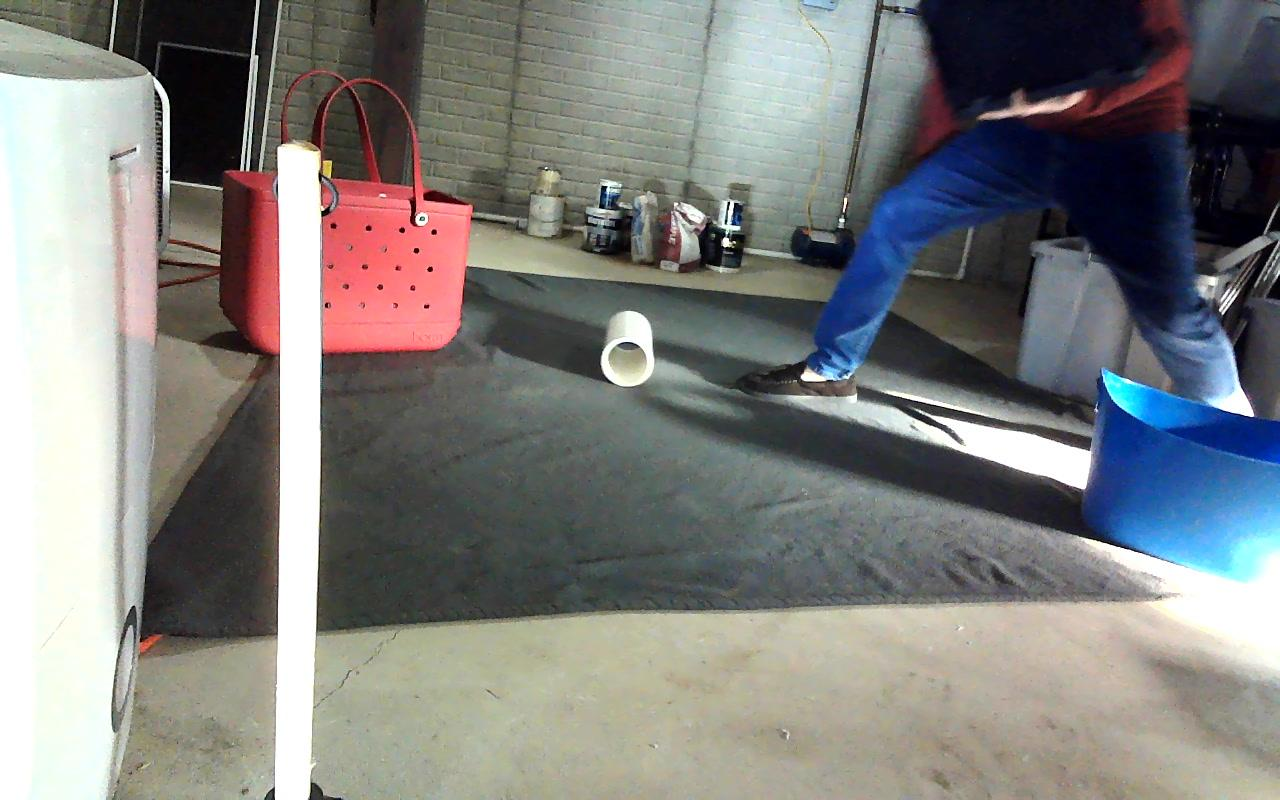coral: (599, 311, 654, 388)
